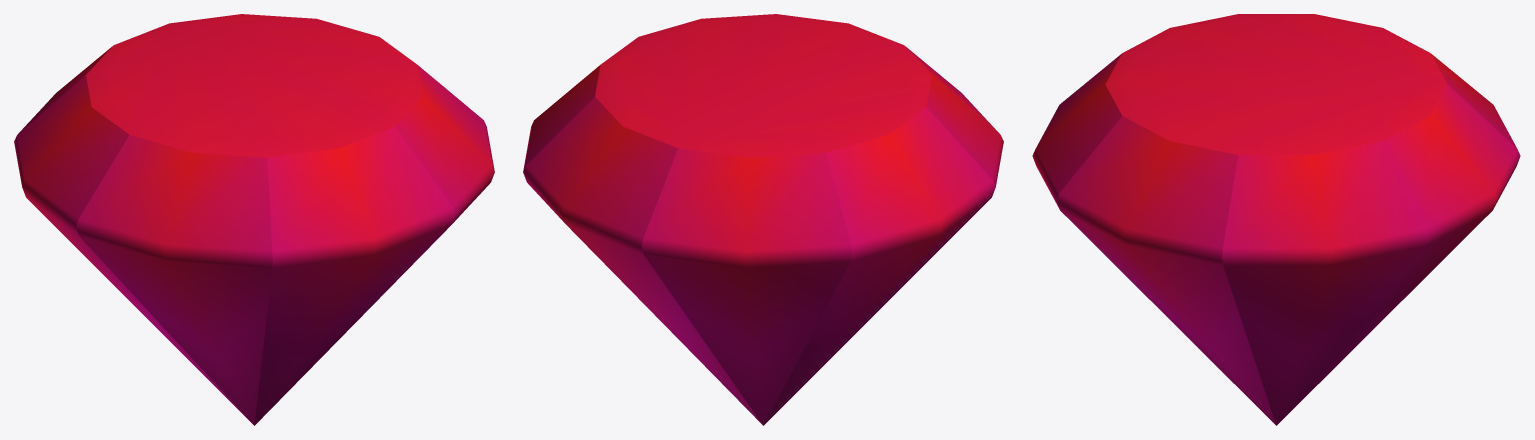
Rendered from Diamond_V1_1.fbx.
The picture shows the model from 3 angles, left to right: view 1: azimuth 30°, elevation 25°; view 2: azimuth 150°, elevation 25°; view 3: azimuth 270°, elevation 25°; orthographic projection.
Visible parts, largest first — view 1: Diamond_V1_1; view 2: Diamond_V1_1; view 3: Diamond_V1_1.
Boxes of the visible parts, x1,y1,x2,y2 form: Diamond_V1_1: [14, 14, 494, 425]; Diamond_V1_1: [523, 14, 1003, 425]; Diamond_V1_1: [1032, 14, 1520, 425].
Size of the model in its own units: 0.4202 by 0.337 by 0.431.
